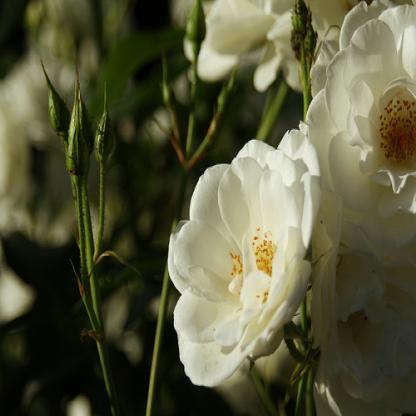ROSE-MAWAR: (167, 2, 416, 412)
